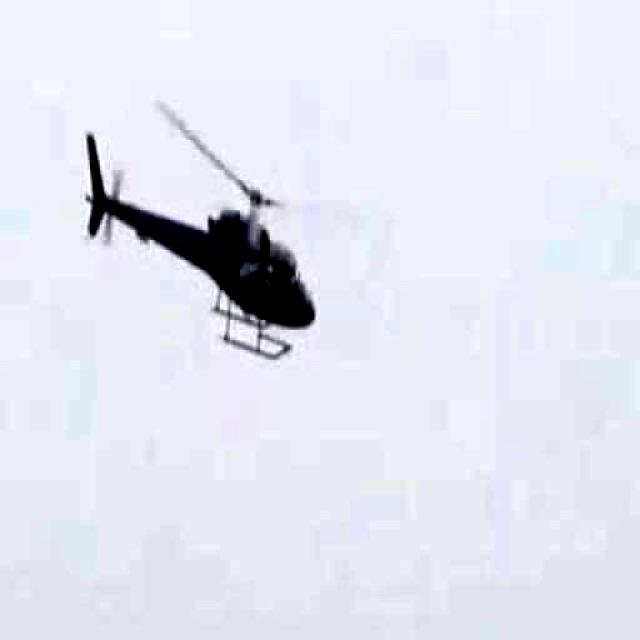drone: (80, 98, 322, 405)
